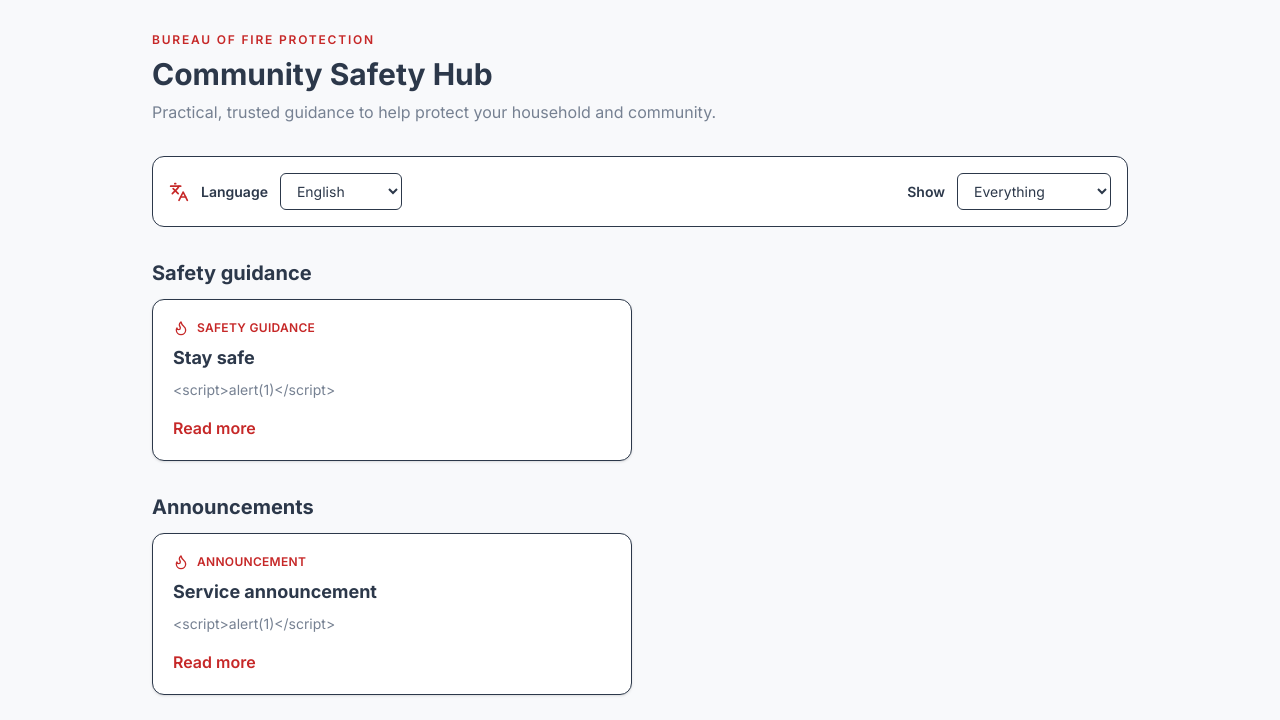
Scenario: CommunityHubContent › filters cards by content type
Select "Announcements" in the dropdown labelled "Show" at (1034, 192), box [957, 173, 1111, 210]
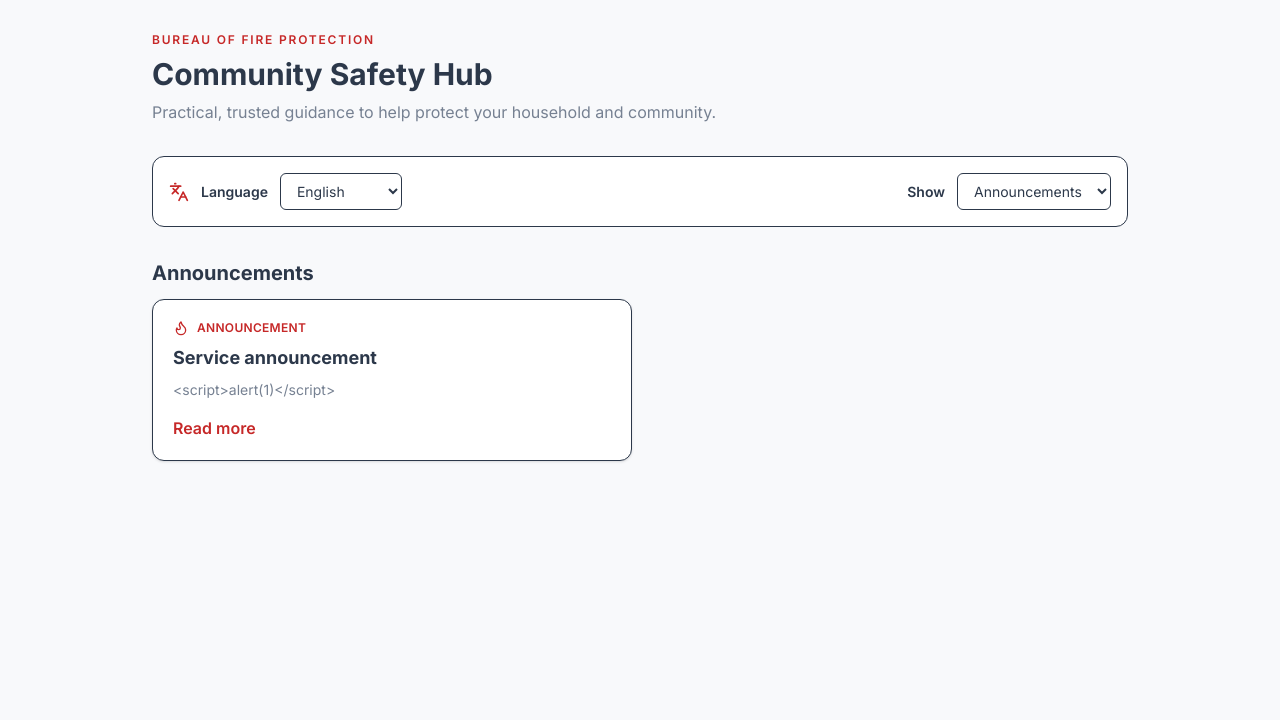
Expected: the heading "Service announcement" is shown, [173, 347, 377, 368]
Expected: the heading "Stay safe" is gone
